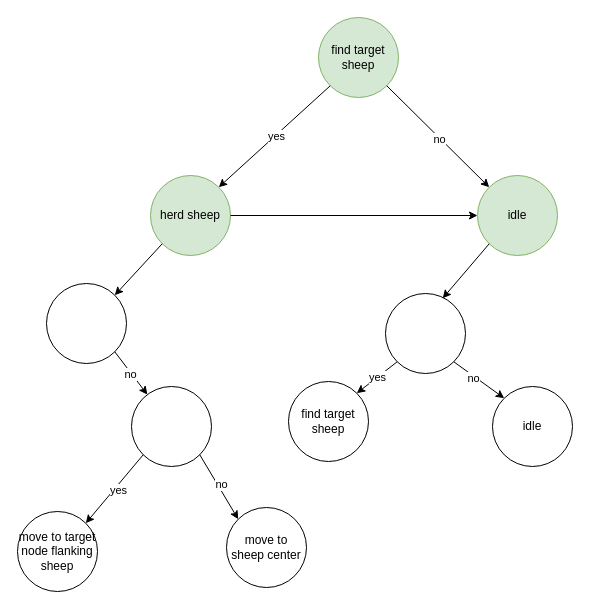
Some shapes in this 590 by 609 pixel diagram are drawn without their labels. The box of each missing label's shape, as (x1, y1, x2, y2) in pixels:
are there sheep in herd?: (384, 292, 466, 374)
find new path. is new path end walkable?: (130, 386, 212, 466)
following path?: (46, 282, 126, 364)
